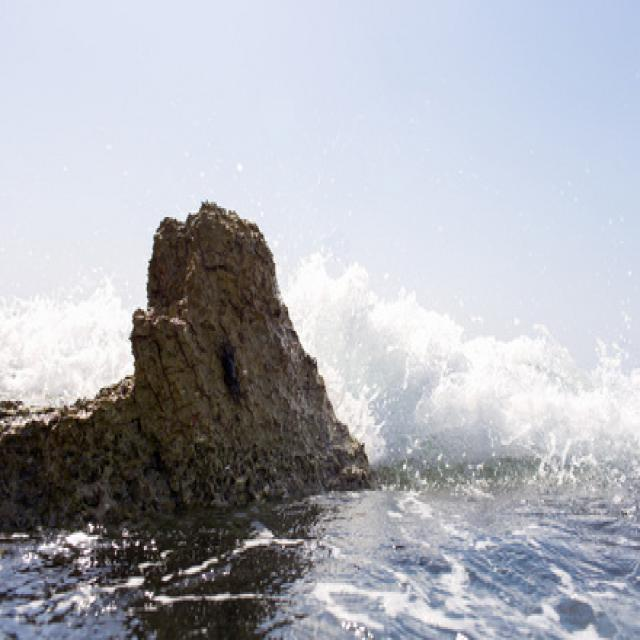reef: (0, 184, 376, 537)
